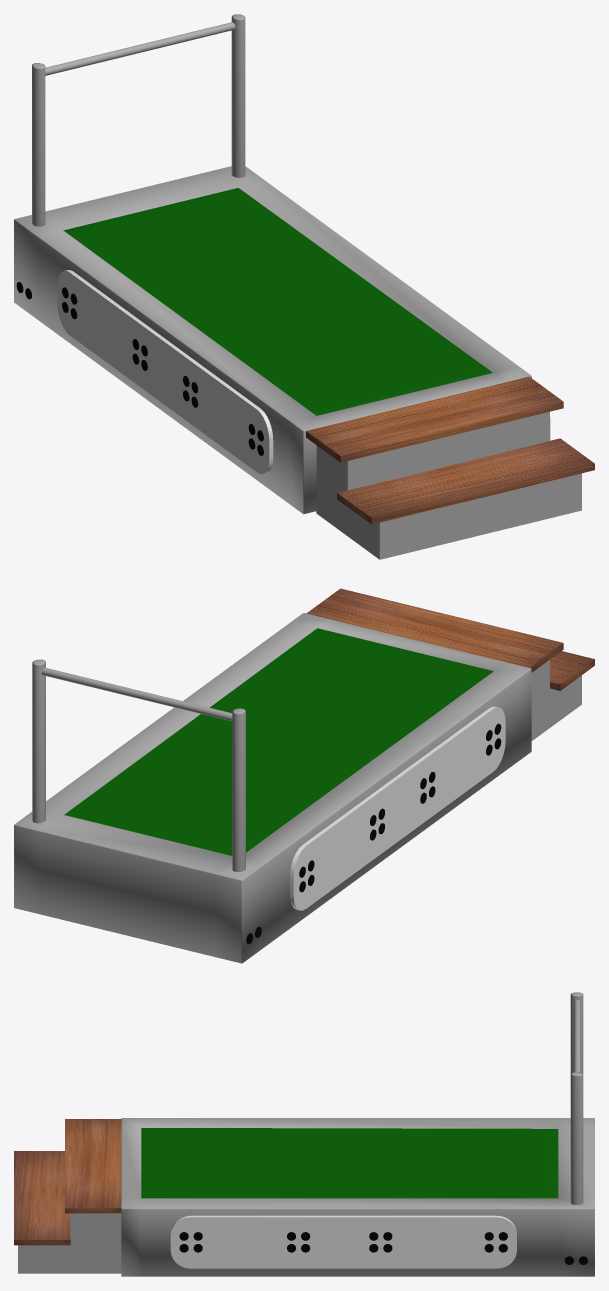
Rendered from traka - 63.glb.
3 views of the same model, one above another, from view 1: azimuth 30°, elevation 25°; view 2: azimuth 150°, elevation 25°; view 3: azimuth 270°, elevation 25° (orthographic). The views are drawn at different scales.
Visible parts, largest first — view 1: Circle, Cube, Cube.001, Cube.002, Cylinder.001, Cylinder, Cylinder.002; view 2: Cube.001, Circle, Cube.002, Cube, Cylinder, Cylinder.001, Cylinder.002; view 3: Circle, Cube.001, Cube.003, Cube, Cylinder.001, Cylinder, Cylinder.002.
Boxes of the visible parts, x1,y1,x2,y2 form: Circle: (63,188,492,415); Cube: (306,376,594,559); Cube.001: (14,166,531,514); Cube.002: (57,270,273,473); Cylinder.001: (231,14,245,177); Cylinder: (32,63,45,226); Cylinder.002: (45,22,235,75); Cube.001: (14,613,531,963); Circle: (64,628,493,855); Cube.002: (290,706,505,910); Cube: (306,588,594,740); Cylinder: (232,708,245,871); Cylinder.001: (32,659,45,823); Cylinder.002: (41,667,232,721); Circle: (141,1128,558,1198); Cube.001: (121,1118,594,1276); Cube.003: (170,1215,516,1268); Cube: (14,1119,121,1273); Cylinder.001: (570,1072,583,1204); Cylinder: (570,992,583,1073); Cylinder.002: (574,1000,580,1072).
Bounding box in the file's own units: 1.24 × 1.21 × 3.2.
Materials: 7 (1 with a texture image).
